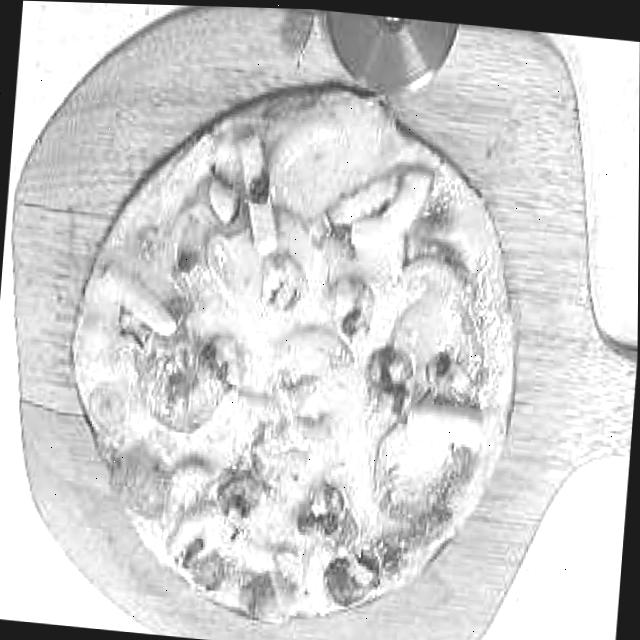汉堡快餐: (30, 51, 556, 640)
